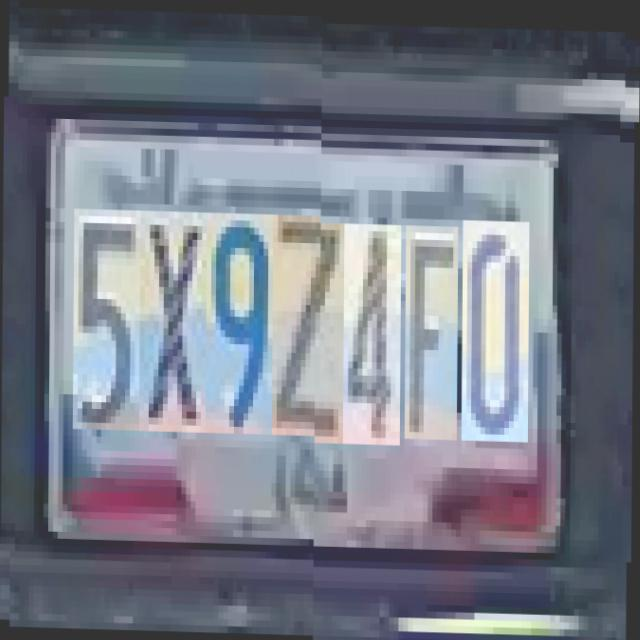0: (462, 210, 530, 432)
4: (344, 214, 402, 436)
5: (73, 208, 141, 430)
9: (206, 211, 274, 433)
F: (406, 215, 458, 430)
X: (140, 209, 208, 432)
Z: (272, 212, 344, 434)
